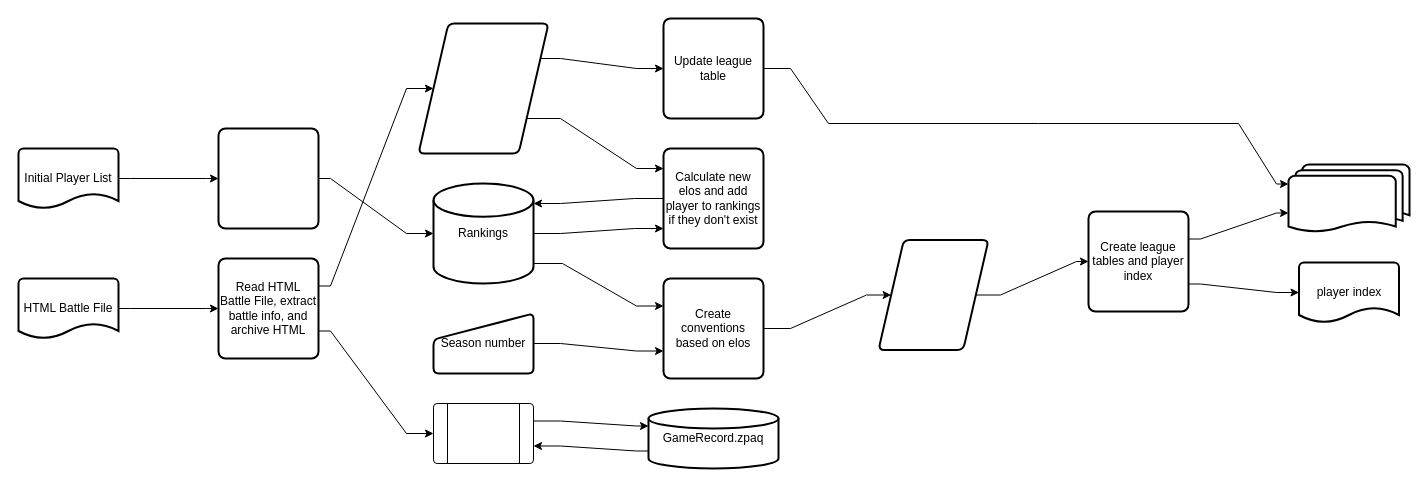
The diagram is 1427 pixels wide and 486 high, and some of its shapes have lost their labels. The box of each missing label's shape, as (x1, y1, x2, y2) in pixels:
dict of conventions of lists of players: (877, 238, 989, 350)
dict of player_one, player_two, n_faint_one, n_faint_two, win_draw_status: (417, 22, 549, 154)
League Tables: (1287, 163, 1410, 233)
Populate Rankings: (217, 127, 319, 229)
zpaq -m5: (432, 402, 534, 464)
